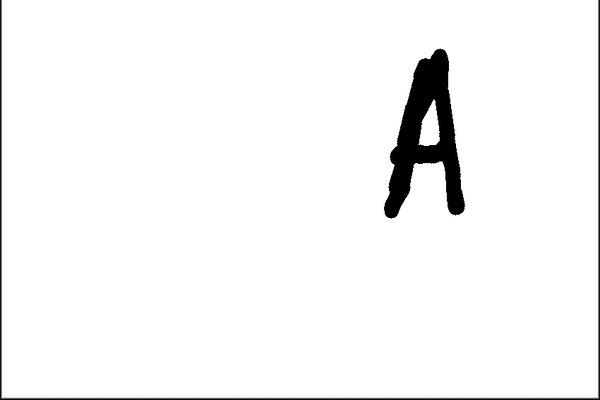A: (377, 39, 476, 225)
